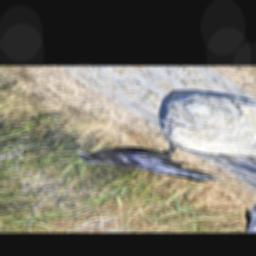Crow: (66, 123, 234, 206)
